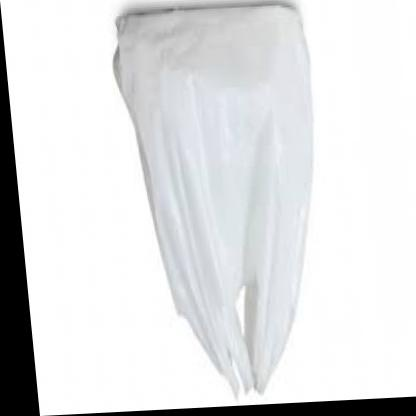trash: (114, 1, 311, 393)
